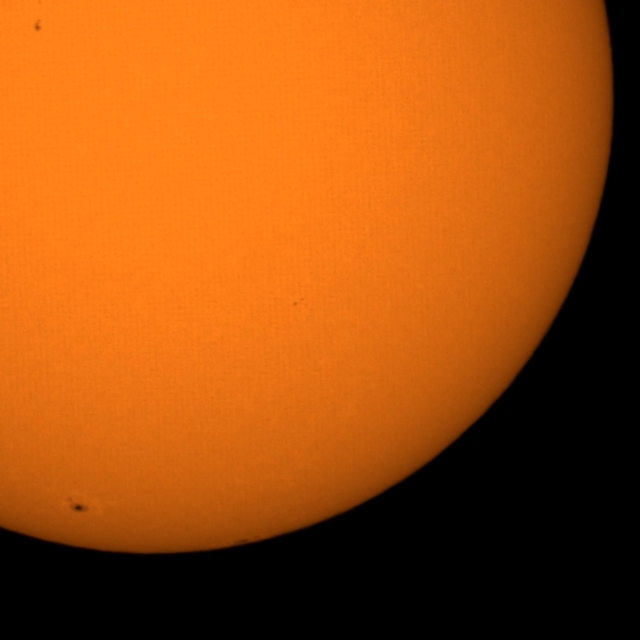sunspot: (66, 496, 89, 514), (33, 18, 44, 34), (292, 297, 305, 307), (36, 0, 43, 5)
